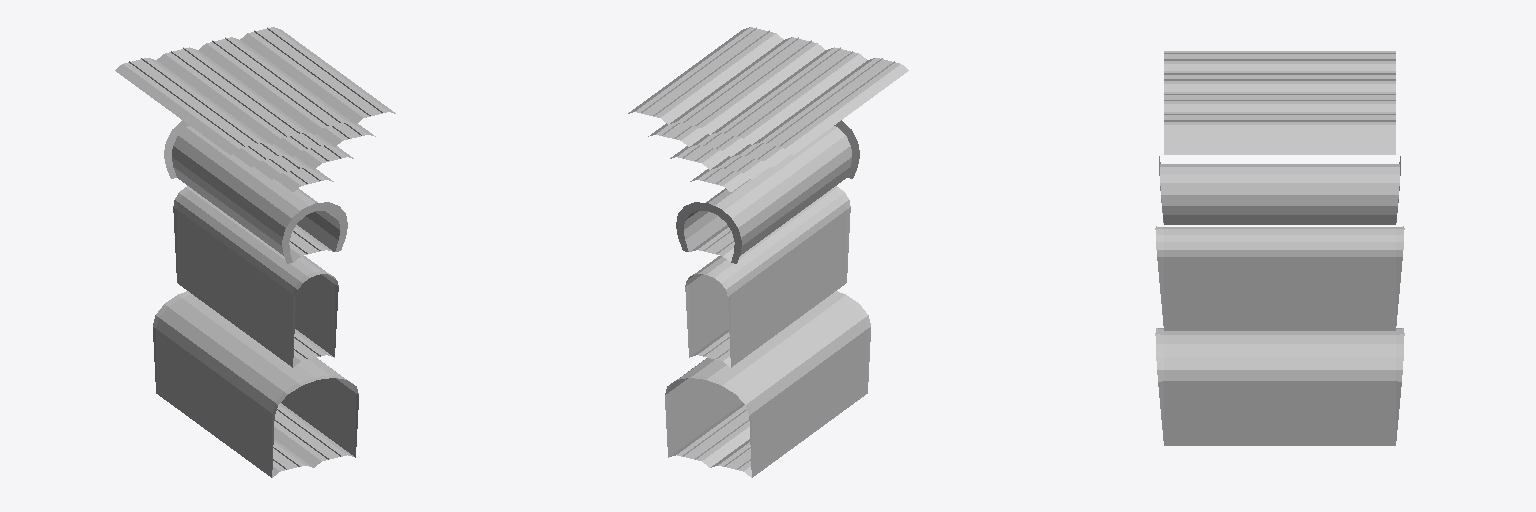
Rendered from ZTracks Master Profiles OBJ.obj.
The picture shows the model from 3 angles: view 1: azimuth 30°, elevation 25°; view 2: azimuth 150°, elevation 25°; view 3: azimuth 270°, elevation 25°; orthographic projection.
Parts seen in each view (by area): view 1: A2t_Tun, A4t, A1t_Tun, A1t_RndTun, A3t, A1t_RndTun_Endcap, A2t, A2t_Tun_Endcap, A1t, A1t_Tun_Endcap; view 2: A2t_Tun, A4t, A1t_Tun, A1t_RndTun, A3t, A1t_RndTun_Endcap, A2t, A2t_Tun_Endcap, A1t, A1t_Tun_Endcap; view 3: A2t_Tun, A1t_Tun, A4t, A1t_RndTun, A3t, A1t, A2t, A2t_Tun_Endcap, A1t_Tun_Endcap.
Part boxes in pixels (bbox=[...]): A2t_Tun: bbox=[156, 294, 355, 477]; A4t: bbox=[115, 27, 395, 154]; A1t_Tun: bbox=[177, 189, 334, 367]; A1t_RndTun: bbox=[172, 127, 339, 261]; A3t: bbox=[233, 122, 375, 167]; A1t_RndTun_Endcap: bbox=[164, 120, 347, 263]; A2t: bbox=[253, 145, 353, 179]; A2t_Tun_Endcap: bbox=[153, 291, 358, 469]; A1t: bbox=[274, 167, 333, 191]; A1t_Tun_Endcap: bbox=[173, 186, 338, 357]; A2t_Tun: bbox=[668, 294, 867, 477]; A4t: bbox=[628, 27, 908, 154]; A1t_Tun: bbox=[689, 189, 846, 367]; A1t_RndTun: bbox=[684, 127, 851, 261]; A3t: bbox=[648, 122, 790, 167]; A1t_RndTun_Endcap: bbox=[676, 120, 859, 263]; A2t: bbox=[670, 145, 770, 179]; A2t_Tun_Endcap: bbox=[665, 291, 870, 469]; A1t: bbox=[690, 167, 749, 191]; A1t_Tun_Endcap: bbox=[685, 186, 850, 357]; A2t_Tun: bbox=[1164, 331, 1395, 445]; A1t_Tun: bbox=[1164, 227, 1395, 330]; A4t: bbox=[1164, 51, 1395, 132]; A1t_RndTun: bbox=[1164, 164, 1395, 224]; A3t: bbox=[1164, 133, 1395, 140]; A1t: bbox=[1164, 148, 1395, 154]; A2t: bbox=[1164, 141, 1395, 147]; A2t_Tun_Endcap: bbox=[1155, 328, 1404, 440]; A1t_Tun_Endcap: bbox=[1155, 226, 1404, 325].
Size of the model in its own units: 19.95 by 38.7 by 25.75.